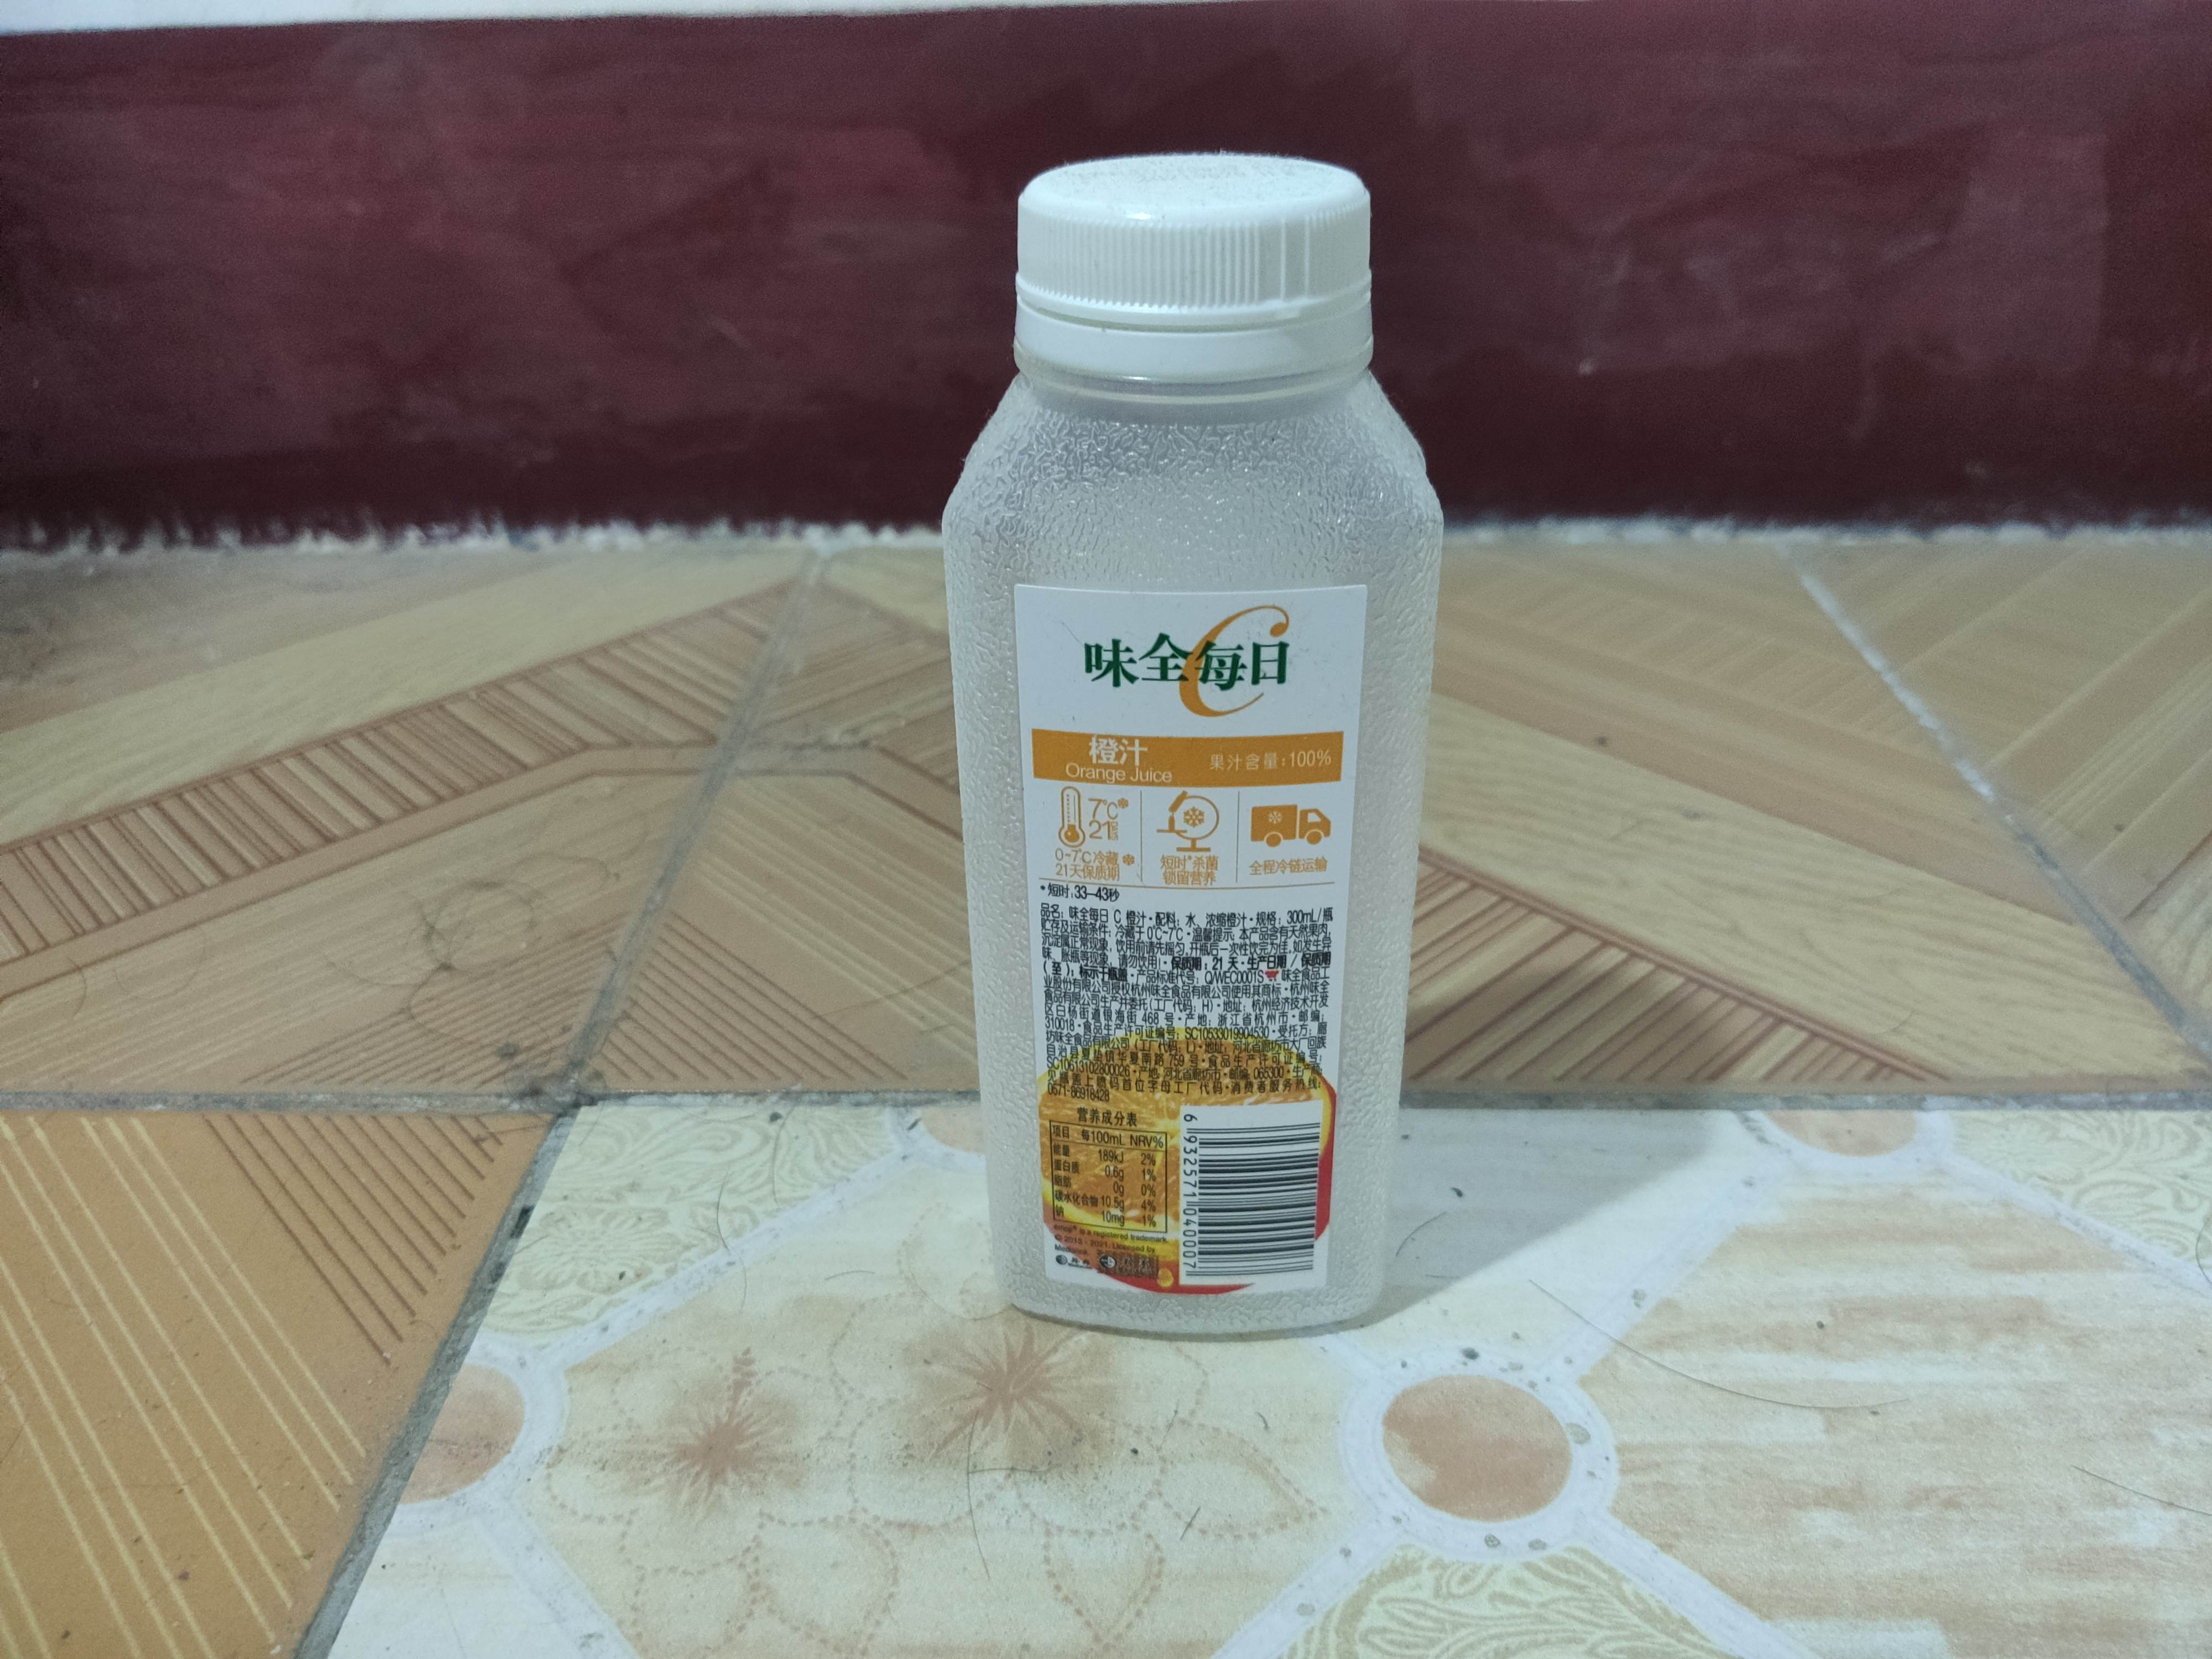Plastic Bottle: (937, 146, 1449, 1345)
